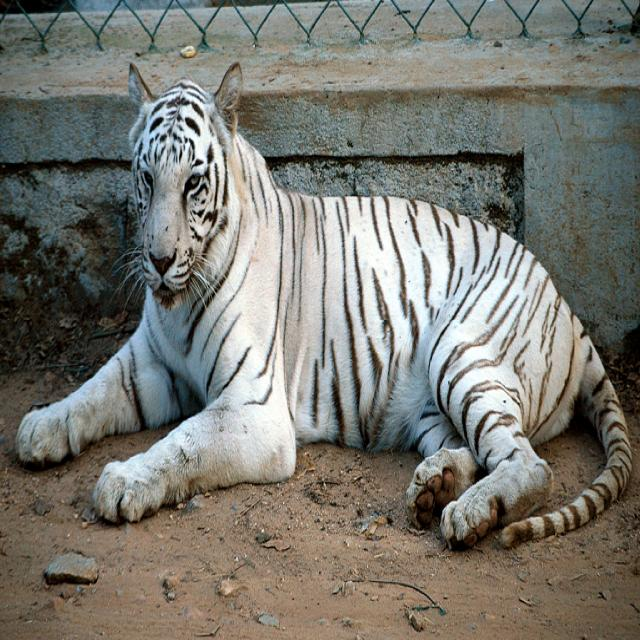Tiger: (14, 58, 630, 548)
